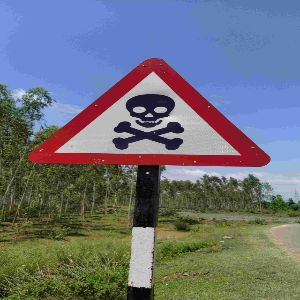Accident prone area: (25, 52, 275, 176)
